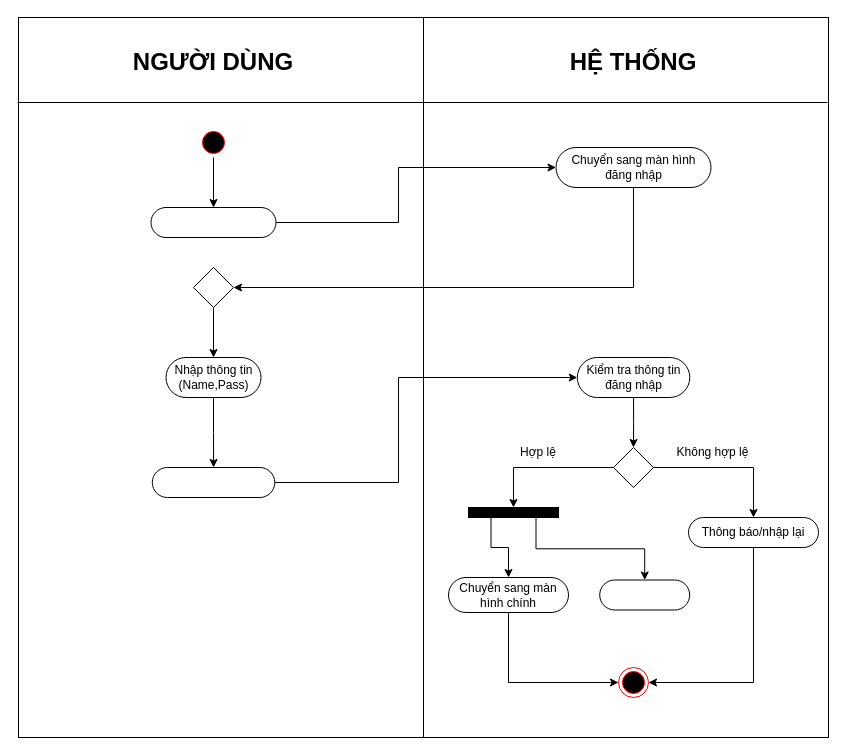
Some shapes in this 846 by 756 pixel diagram are drawn without their labels. The centre of each missing label's shape, as x and y in pixels:
"Bấm nút đăng nhập" goes at point 213,482.
"Lưu trạng thái" goes at point 644,594.
"Nhấn nút đăng nhập" goes at point 213,222.
